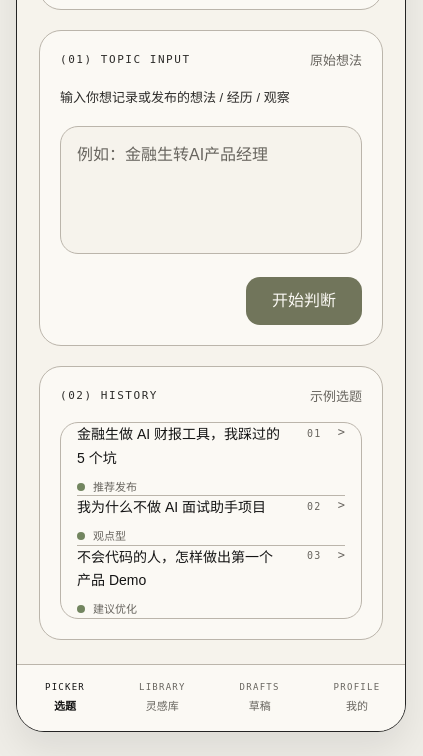
Test: TopicPilotApp › fills the picker input from a library template without auto analyzing
(page scrolled)
Click the button "LIBRARY 灵感库" at [162, 698], box [130,681,194,715]
(page scrolled)
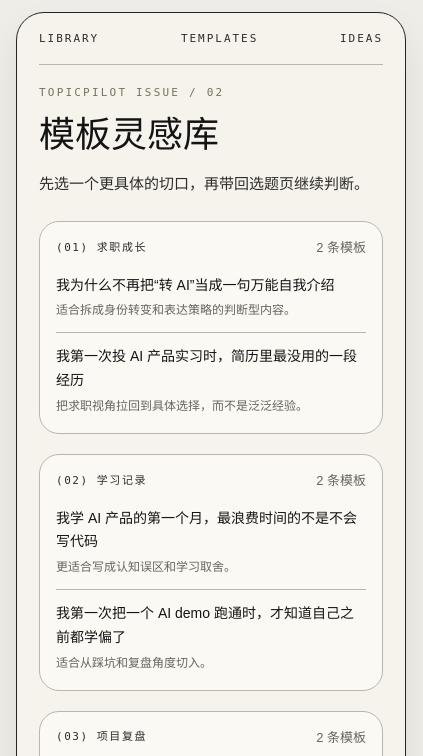
Click the button "我为什么不再把“转 AI”当成一句万能自我介绍 适合拆成身份转变和表达策略的判断型内容。" at [195, 284], box [56,274,366,320]
(page scrolled)
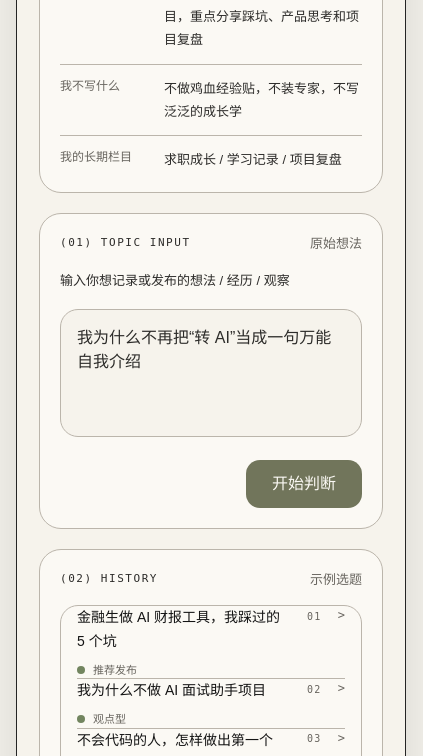
Check: the text "TOPIC INPUT" is shown, box [60,236,191,249]
Check: the text box holds "我为什么不再把“转 AI”当成一句万能自我介绍", box [60,309,362,437]
